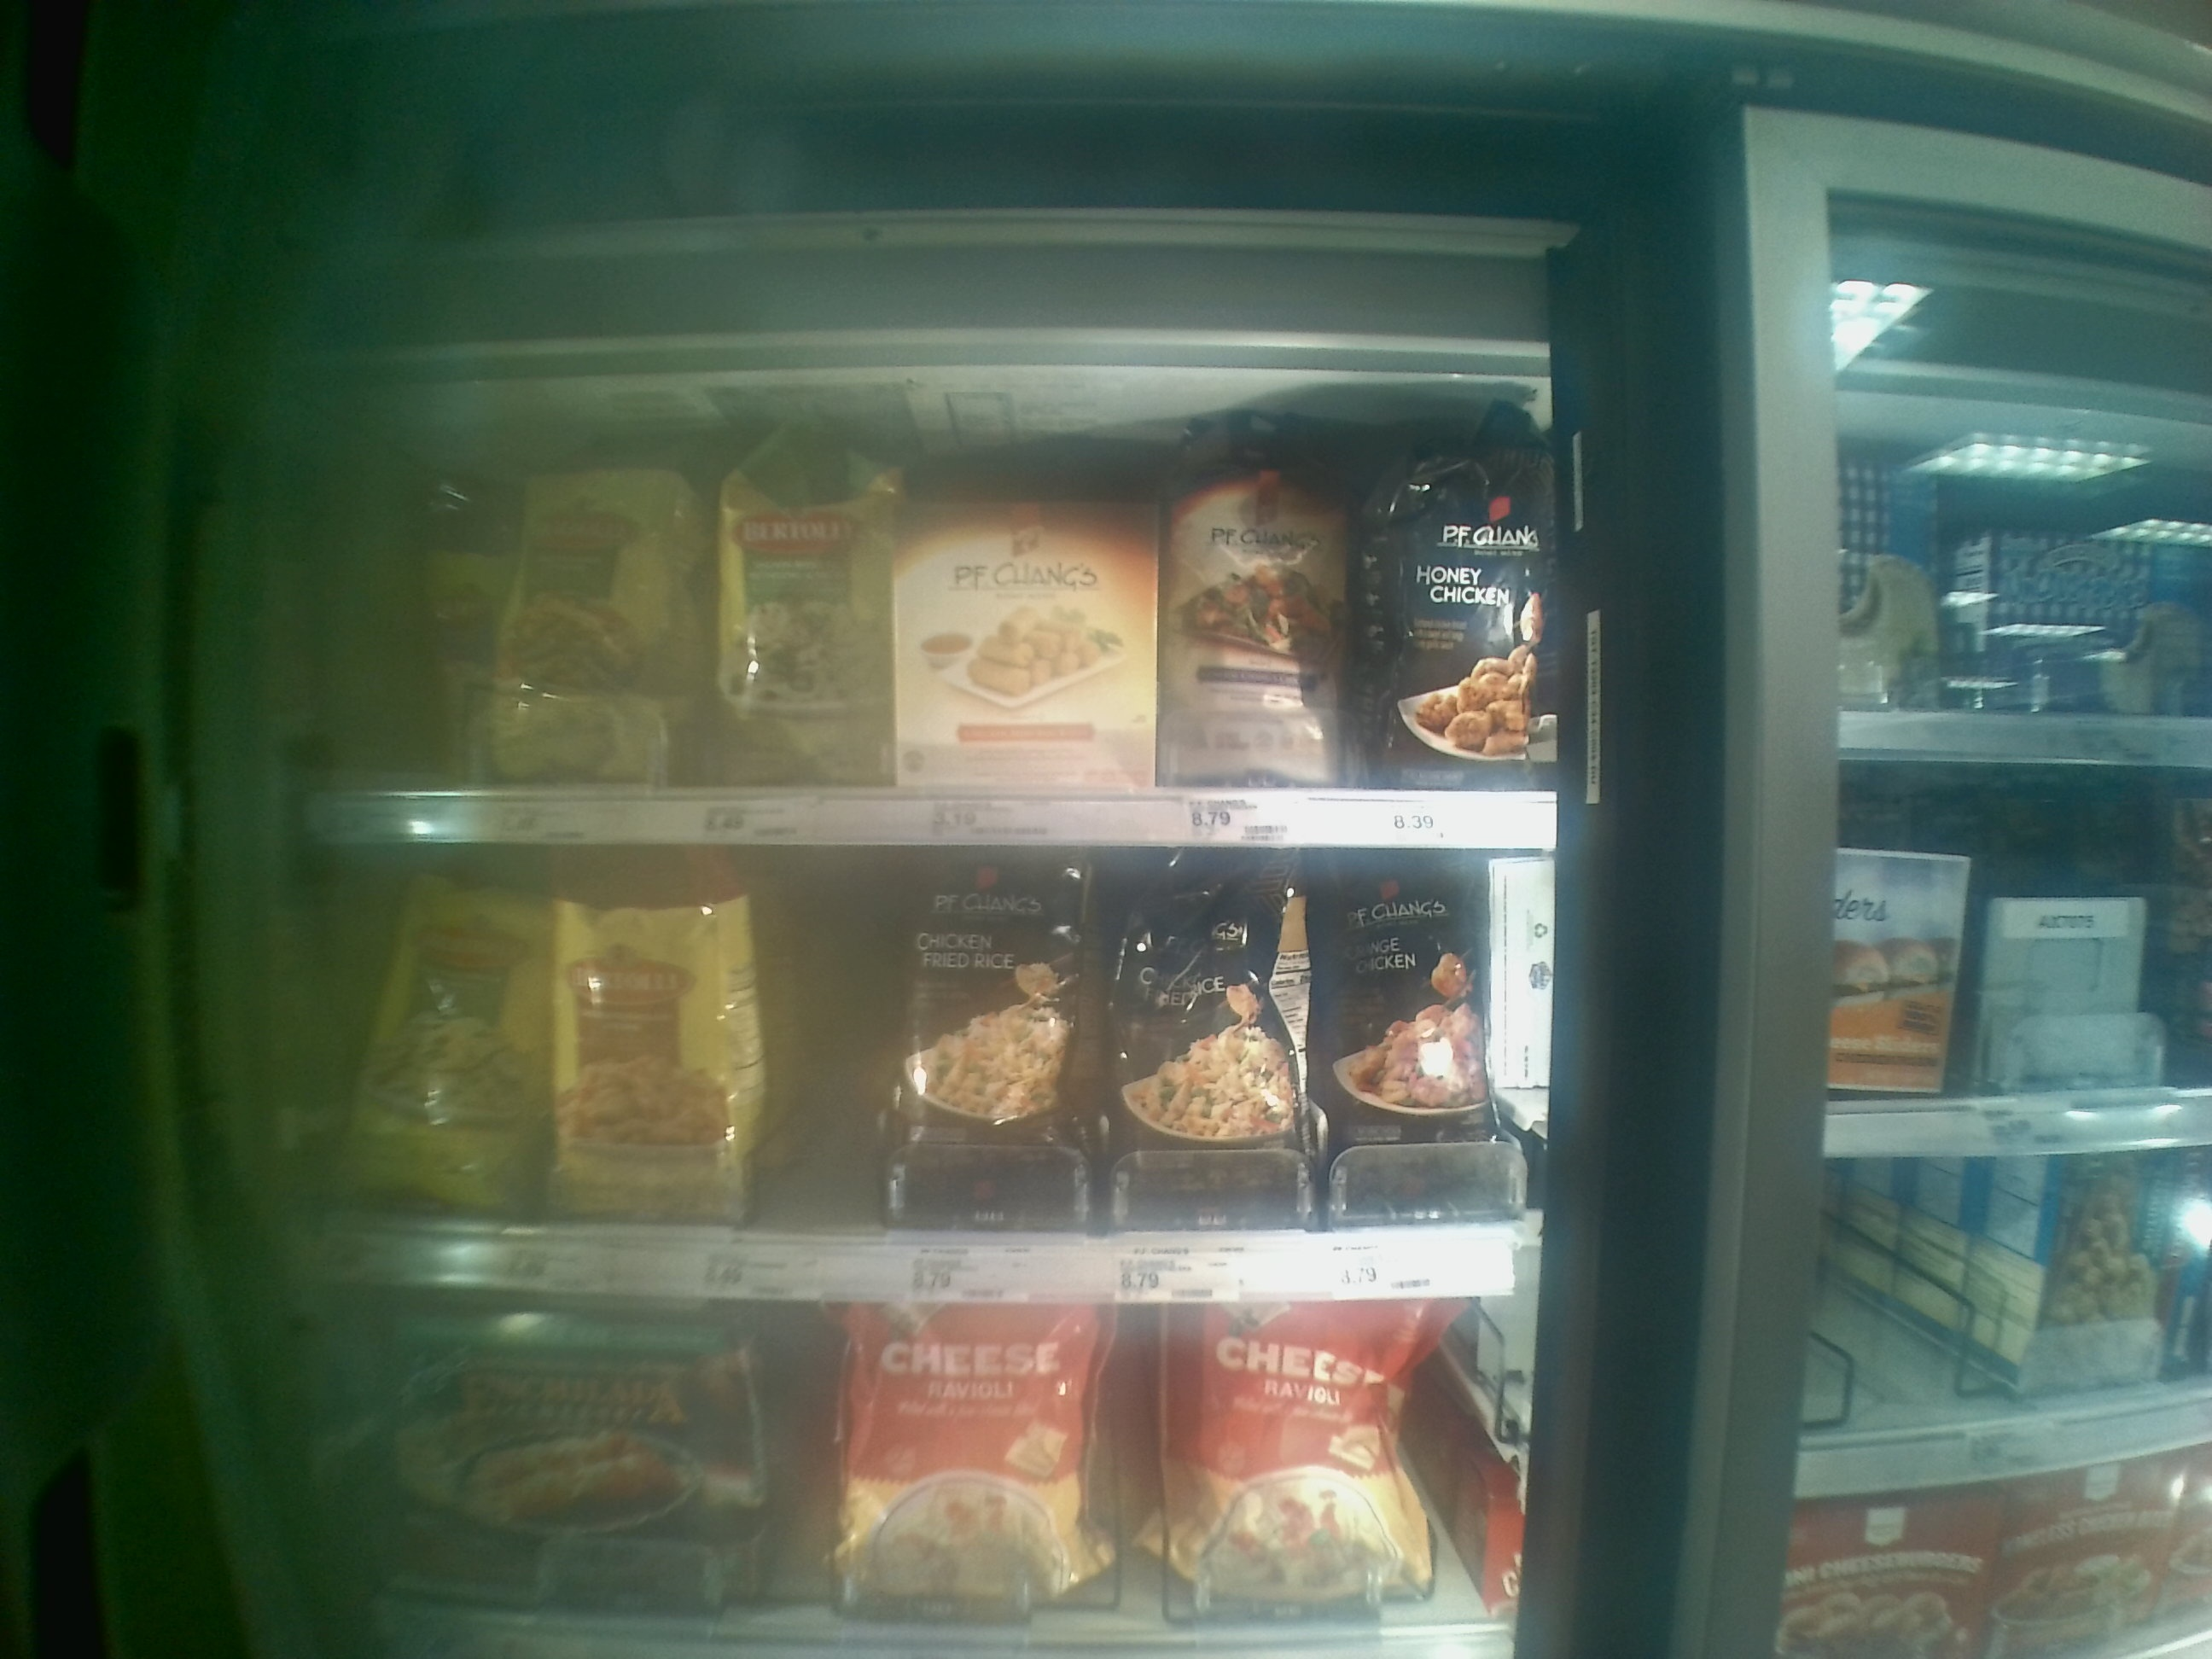frozen-food-shelf: (287, 403, 1552, 856), (310, 838, 1514, 1298)
